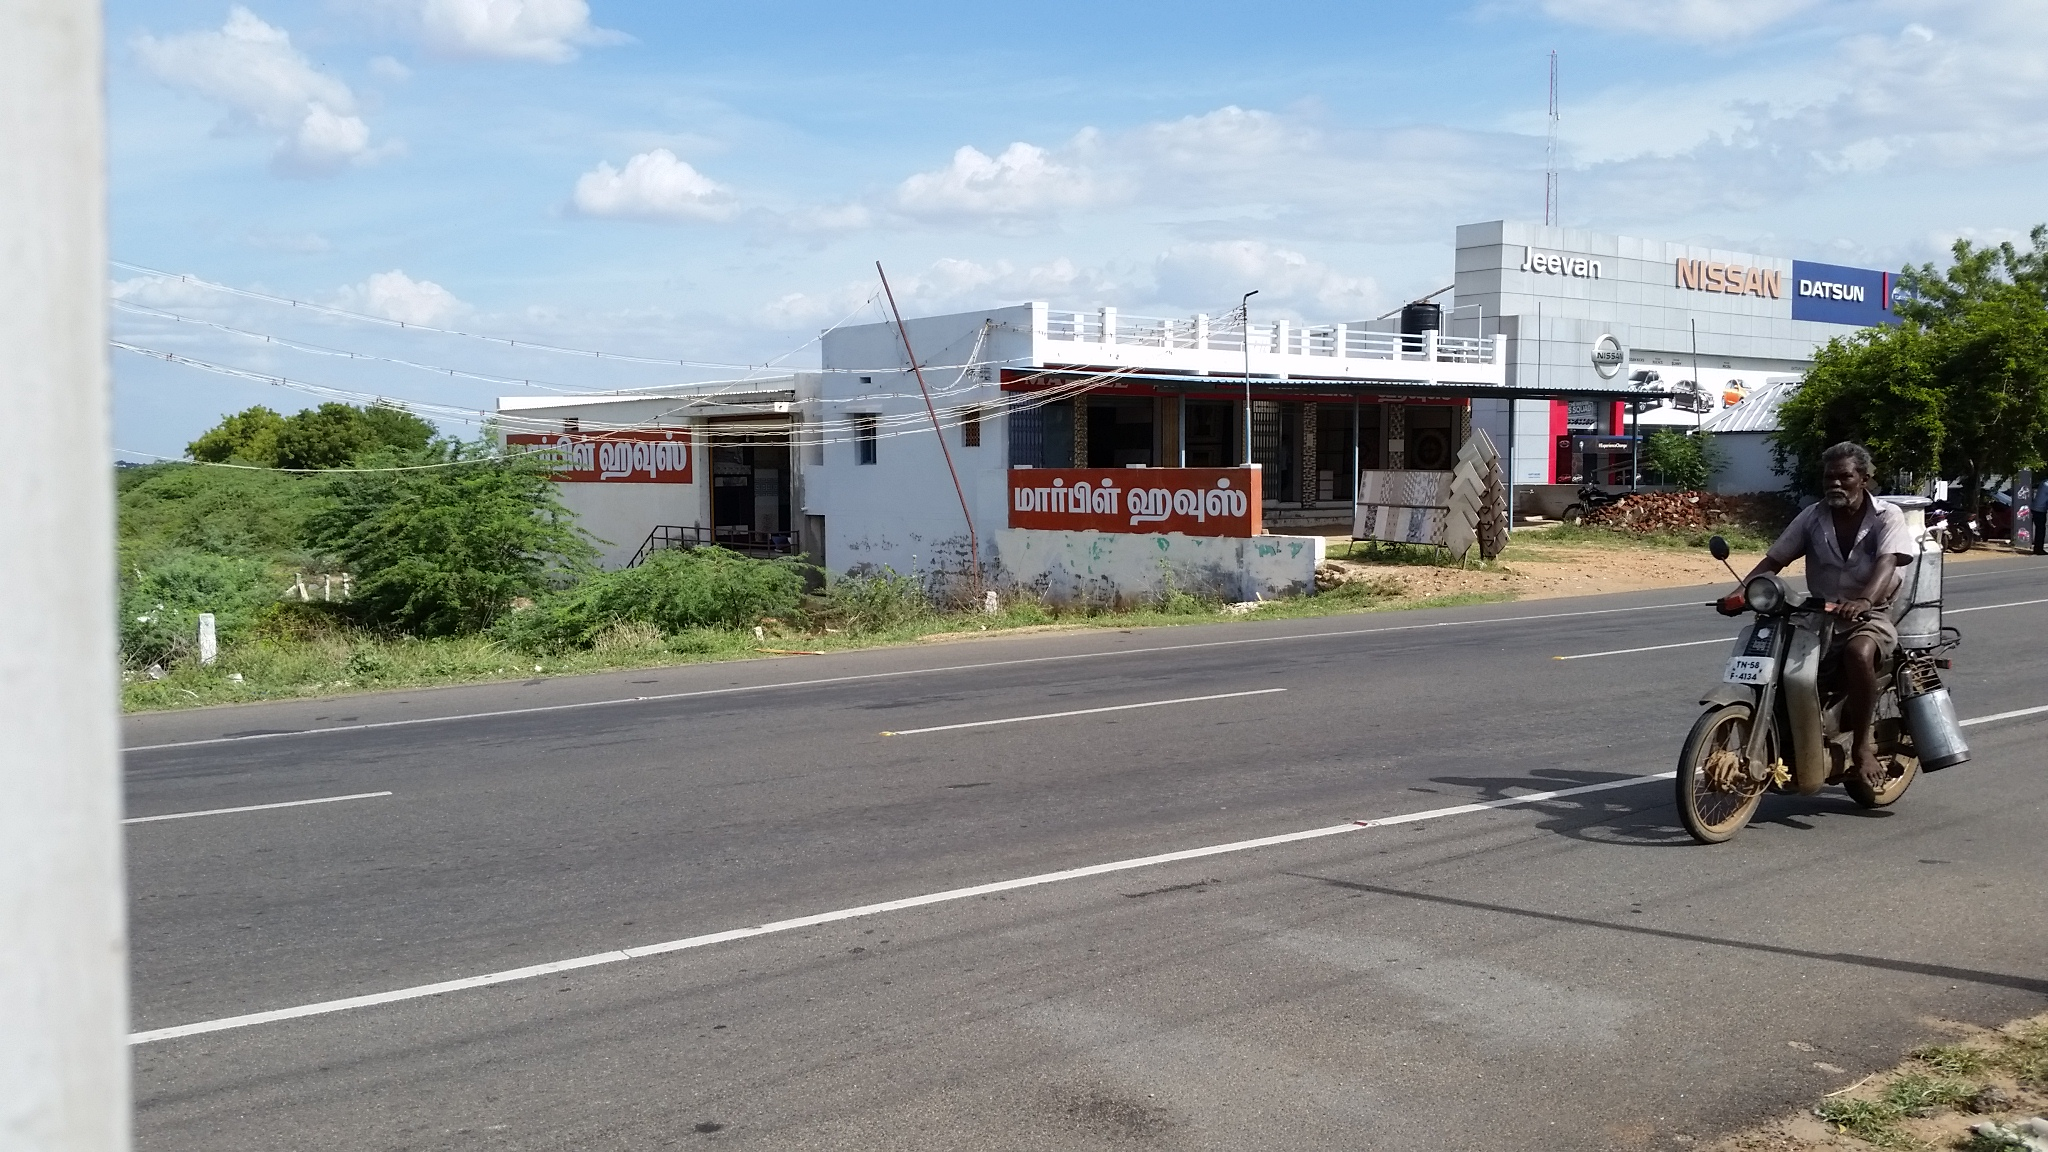biker: (1629, 364, 2004, 882)
nohelmet: (1799, 425, 1899, 537)
